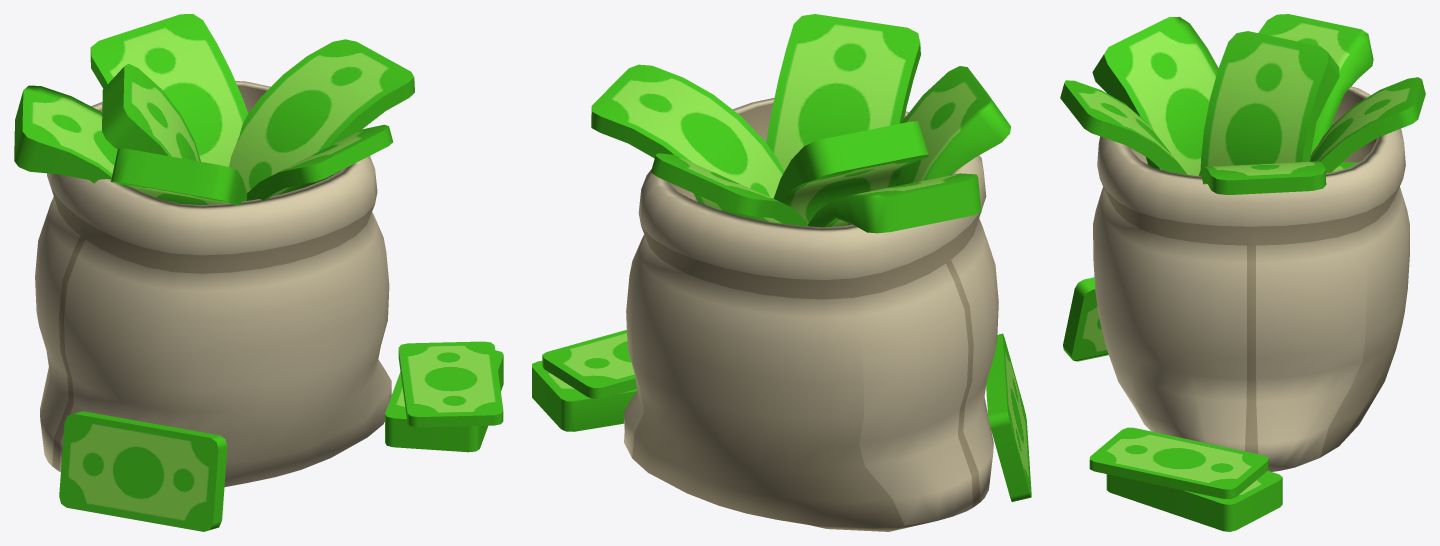
Rendered from Money_Bag.fbx.
The picture shows the model from 3 angles, left to right: view 1: azimuth 30°, elevation 25°; view 2: azimuth 150°, elevation 25°; view 3: azimuth 270°, elevation 25°; orthographic projection. The views are drawn at different scales.
Visible parts, largest first — view 1: Money_Bag, pasted__money, Moneybag2, Moneybag1; view 2: Money_Bag, pasted__money, Moneybag1, Moneybag2; view 3: Money_Bag, pasted__money, Moneybag1, Moneybag2.
Part boxes in pixels (box(x1,y1,x2,y2)): Money_Bag: box(35, 81, 391, 486); pasted__money: box(14, 14, 414, 205); Moneybag2: box(59, 411, 227, 531); Moneybag1: box(385, 341, 503, 452); Money_Bag: box(623, 98, 998, 531); pasted__money: box(591, 14, 1010, 233); Moneybag1: box(532, 330, 636, 431); Moneybag2: box(986, 333, 1031, 501); Money_Bag: box(1093, 86, 1409, 471); pasted__money: box(1060, 14, 1425, 194); Moneybag1: box(1089, 427, 1282, 531); Moneybag2: box(1063, 277, 1108, 361).
Size of the model in its own units: 87.05 by 66.26 by 64.45.
